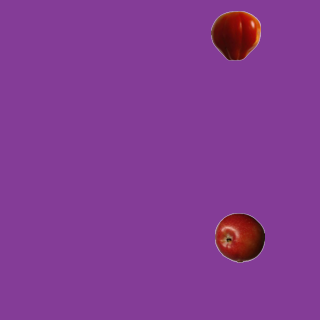Apple Braeburn: (214, 212, 264, 262)
Tomato 1: (210, 10, 260, 60)
